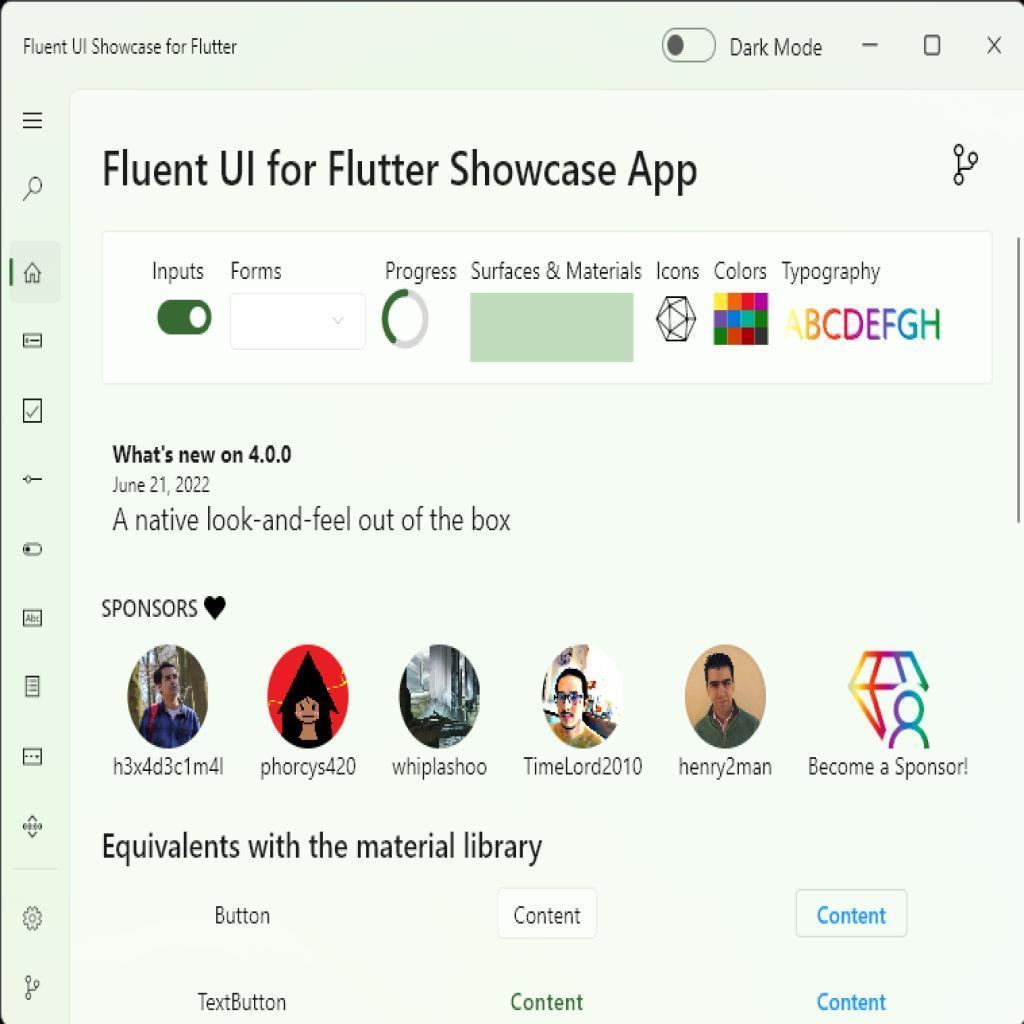button: (795, 888, 910, 941), (499, 890, 601, 942)
dropdown: (234, 290, 371, 357)
icon: (651, 292, 700, 347), (13, 735, 54, 782), (951, 140, 984, 190), (17, 600, 52, 643), (19, 806, 51, 853), (19, 966, 51, 1013), (19, 533, 51, 577), (21, 171, 52, 211), (21, 665, 48, 709), (22, 391, 51, 431), (23, 901, 52, 941), (21, 101, 52, 138), (20, 466, 51, 503), (19, 323, 48, 357), (17, 257, 45, 292)
label: (502, 984, 594, 1024), (815, 984, 895, 1024)
switch: (155, 292, 215, 343), (663, 25, 722, 66)
